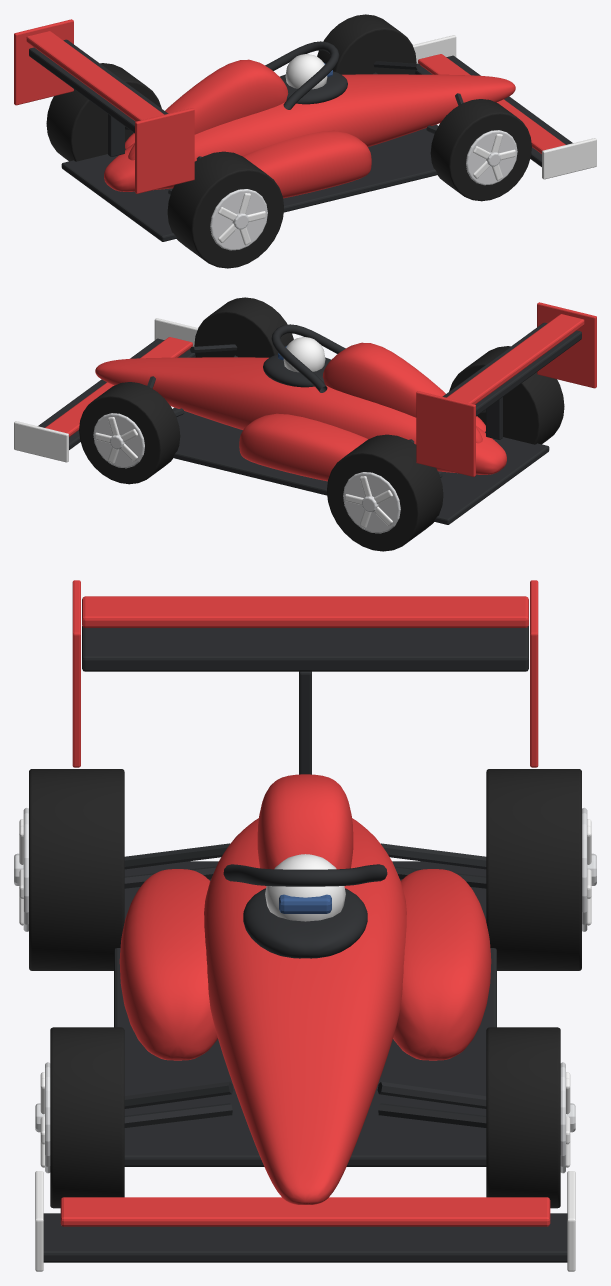
File: auto.glb
The picture shows the model from 3 angles, top to bottom: view 1: azimuth 30°, elevation 25°; view 2: azimuth 150°, elevation 25°; view 3: azimuth 270°, elevation 25°; orthographic projection. The views are drawn at different scales.
Parts seen in each view (by area): view 1: Scocca, Ruota_PD, Ruota_AD, Ruota_PS, Ruota_AS; view 2: Scocca, Ruota_PS, Ruota_AS, Ruota_PD, Ruota_AD; view 3: Scocca, Ruota_PD, Ruota_PS, Ruota_AD, Ruota_AS.
Boxes of the visible parts, x1,y1,x2,y2 form: Scocca: [14, 19, 596, 241]; Ruota_PD: [167, 151, 283, 268]; Ruota_AD: [430, 99, 531, 201]; Ruota_PS: [46, 63, 161, 161]; Ruota_AS: [317, 14, 416, 74]; Scocca: [14, 302, 596, 524]; Ruota_PS: [327, 434, 443, 551]; Ruota_AS: [79, 382, 180, 484]; Ruota_PD: [449, 346, 564, 444]; Ruota_AD: [194, 297, 293, 357]; Scocca: [35, 580, 575, 1271]; Ruota_PD: [14, 769, 124, 970]; Ruota_PS: [486, 769, 596, 970]; Ruota_AD: [35, 1027, 124, 1208]; Ruota_AS: [486, 1027, 575, 1208].
Bounding box in the file's own units: 0.925 × 0.31 × 0.548.
